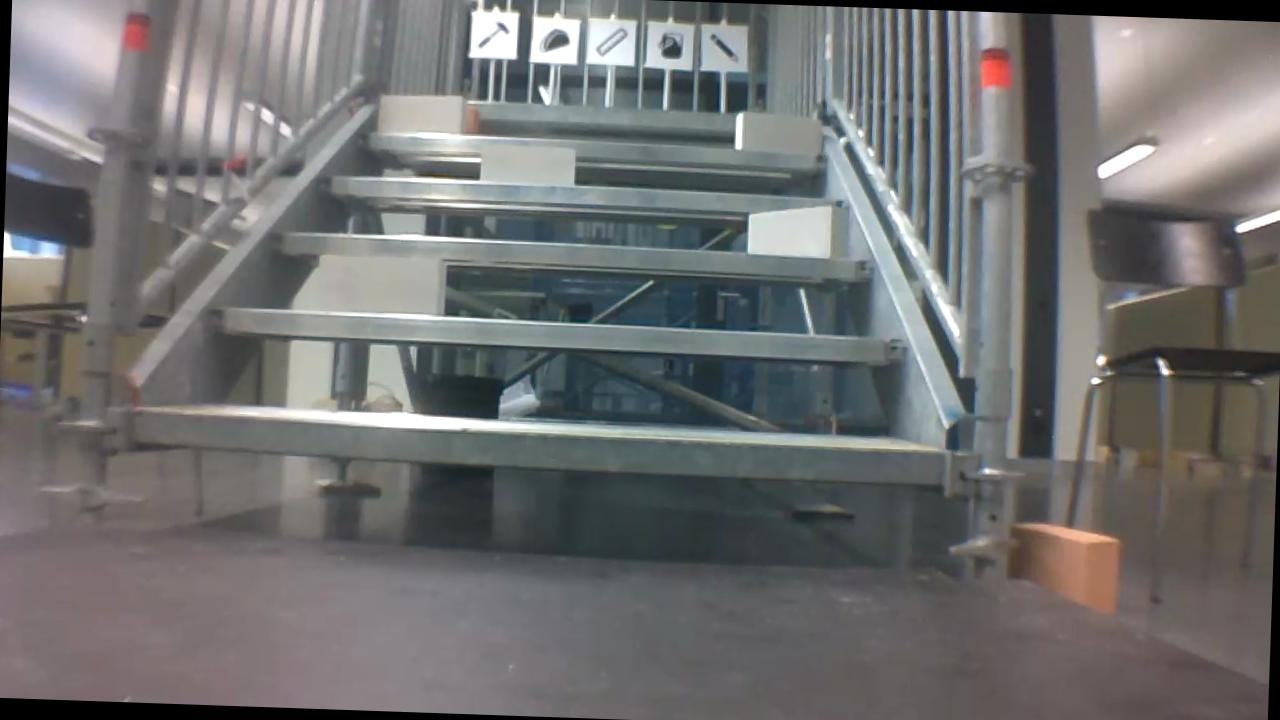brick: (318, 255, 447, 315), (746, 199, 852, 258), (481, 145, 574, 184), (733, 111, 819, 151), (378, 95, 464, 131), (464, 111, 482, 133)
bucket: (653, 28, 688, 62)
edge: (131, 407, 942, 484), (208, 307, 914, 362), (267, 231, 872, 279), (317, 176, 852, 216), (359, 130, 824, 169), (371, 95, 818, 130)
hammer: (472, 15, 512, 52)
pencil: (704, 28, 745, 65)
ruler: (592, 24, 631, 58)
steps: (125, 81, 960, 493)
taco: (537, 24, 573, 56)
